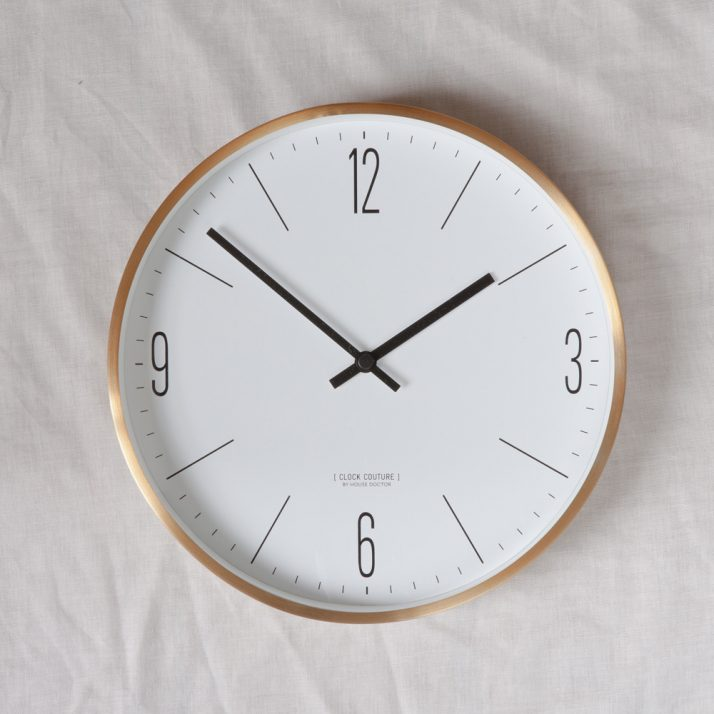clock: (107, 102, 627, 626)
